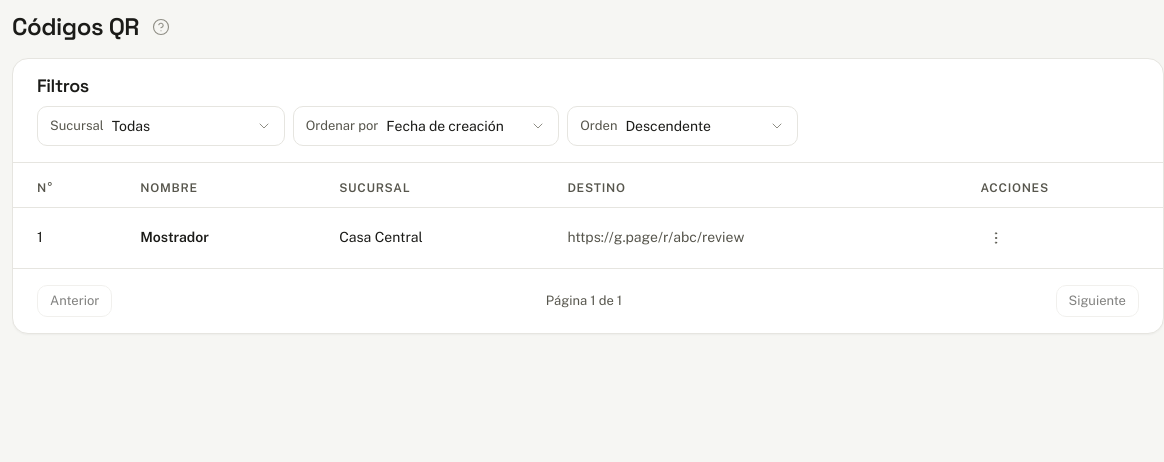
it: QrListPage — acciones por rol › USER no ve escrituras pero SÍ ver imagen / enviar / copiar link
Expected: the table is shown, [13, 162, 1163, 268]
Step 1. Click the button named "Más acciones" → (996, 238), box [980, 222, 1012, 254]
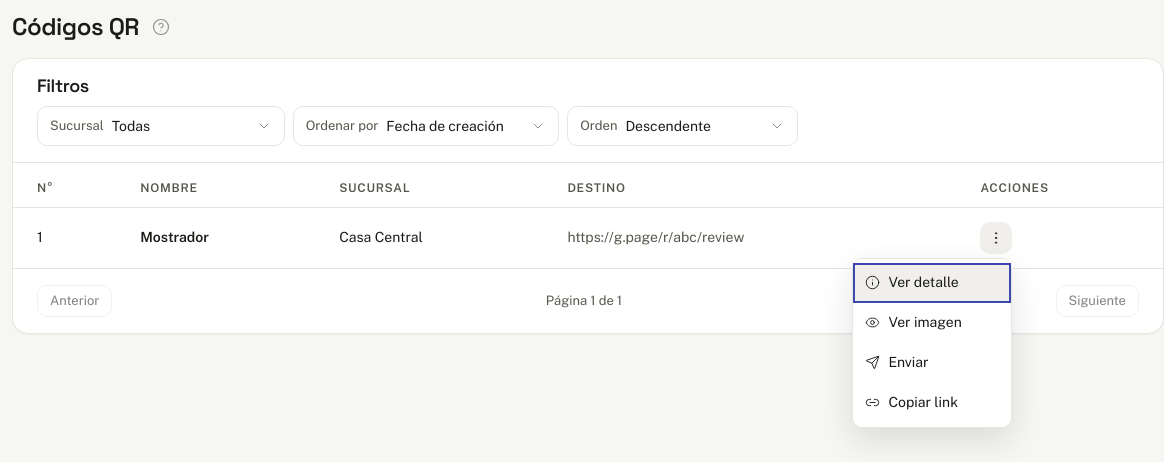
Result: the menu items read "Ver detalle", "Ver imagen", "Enviar", "Copiar link", in this order at [853, 262, 1011, 302]; [853, 302, 1011, 342]; [853, 342, 1011, 382]; [853, 382, 1011, 422]
